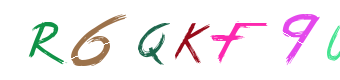6: (64, 0, 144, 80)
9: (177, 0, 257, 80)
F: (150, 0, 230, 80)
K: (129, 0, 209, 80)
Q: (100, 0, 180, 80)
R: (49, 0, 129, 80)
U: (193, 0, 273, 80)
Y: (253, 0, 333, 80)
